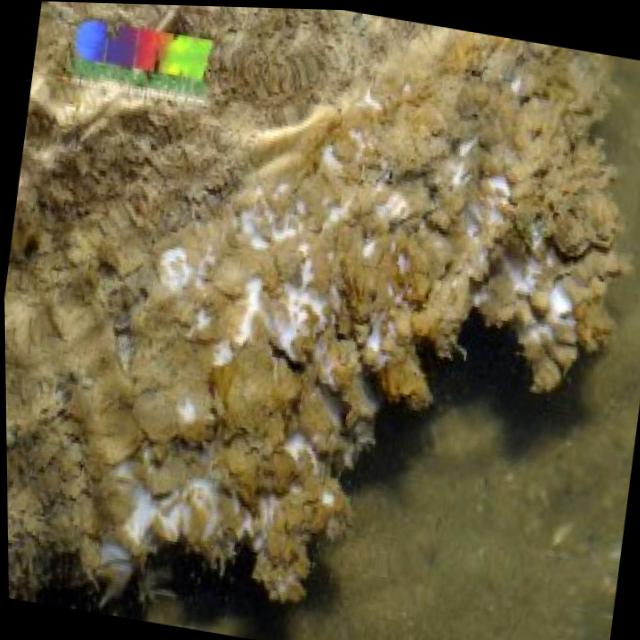Bleached Coral: (38, 76, 620, 640)
